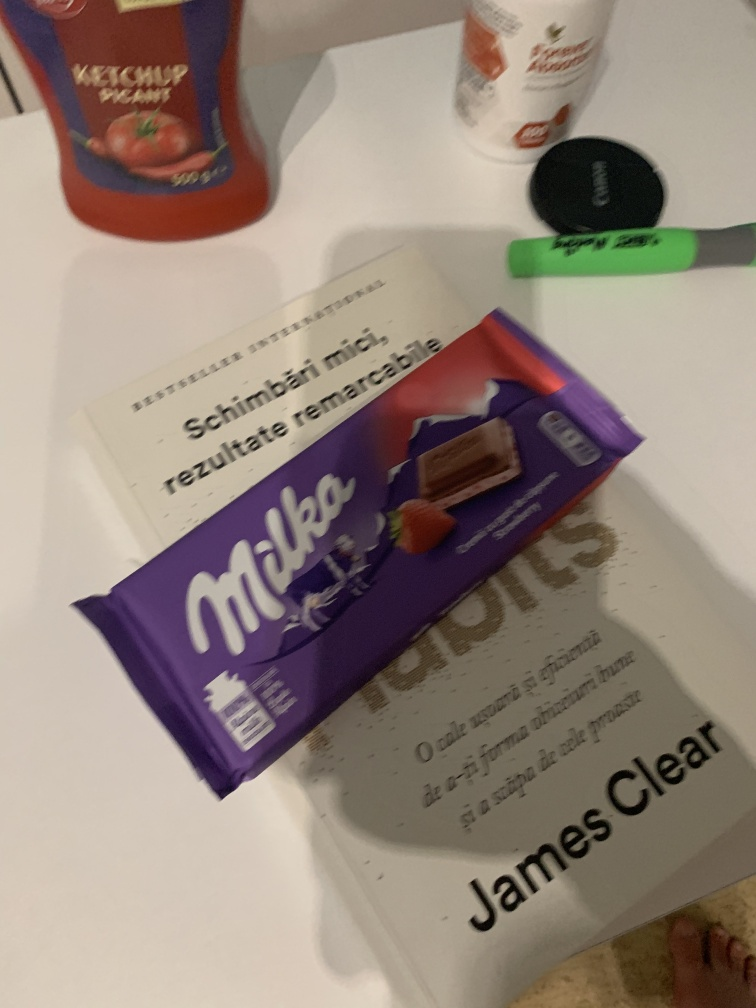ketchup: (2, 1, 287, 251)
milka: (69, 329, 695, 806)
